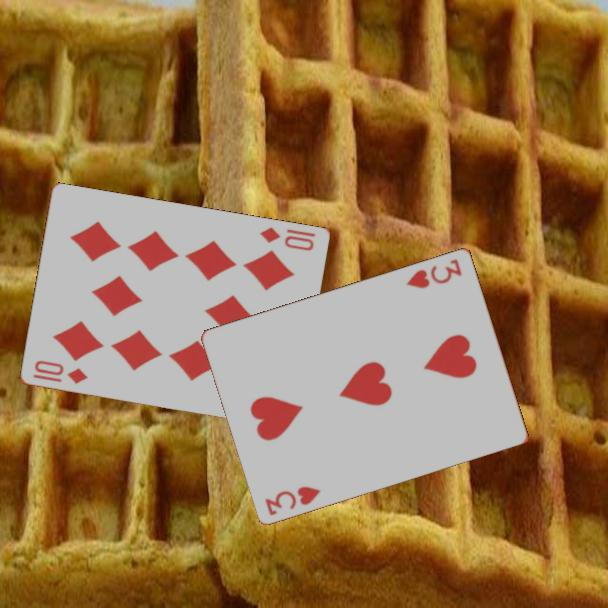d10: (256, 224, 318, 254), (29, 357, 90, 387)
h03: (261, 482, 324, 518), (403, 255, 465, 291)
